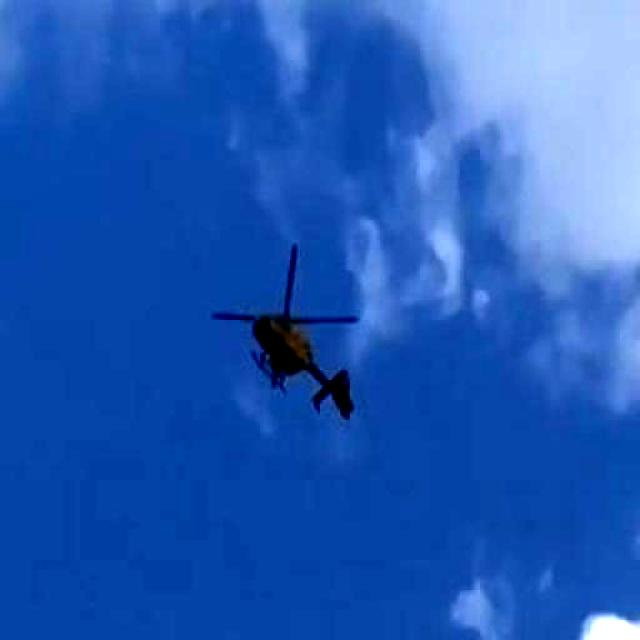drone: (180, 198, 382, 449)
